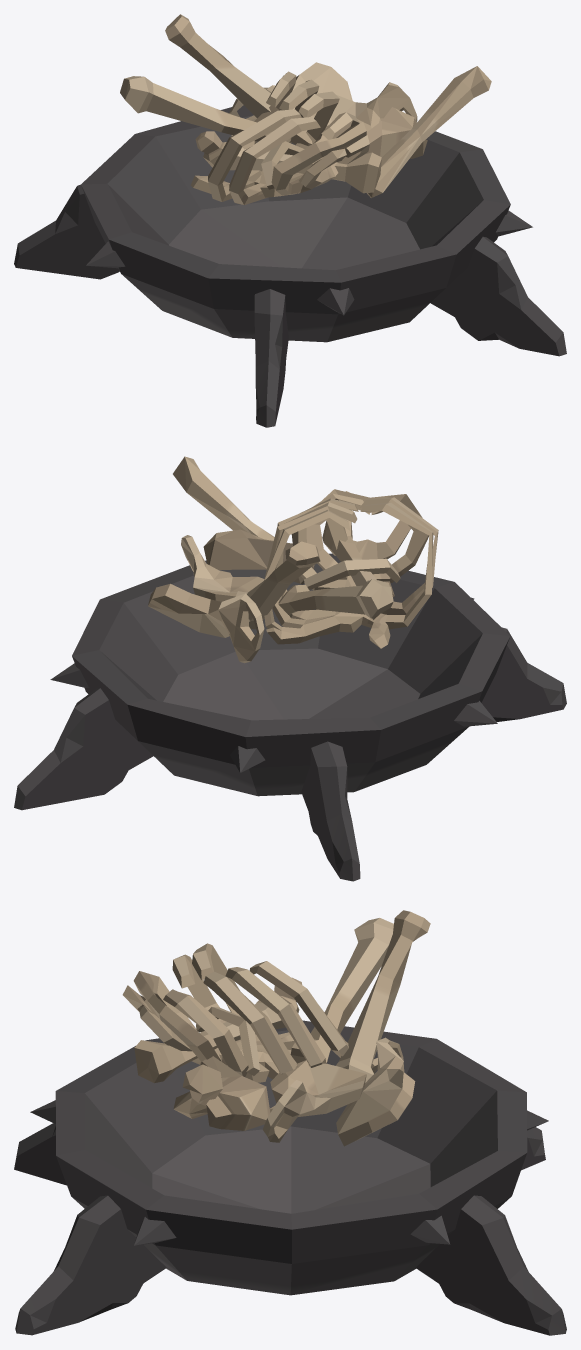
The model's file is bog_brazier.gltf.
3 renders of one model, top to bottom at view 1: azimuth 30°, elevation 25°; view 2: azimuth 150°, elevation 25°; view 3: azimuth 270°, elevation 25°, orthographic. The views are drawn at different scales.
Parts seen in each view (by area): view 1: bog_brazier; view 2: bog_brazier; view 3: bog_brazier.
Boxes of the visible parts, x1,y1,x2,y2 form: bog_brazier: (14, 14, 566, 427); bog_brazier: (14, 456, 566, 881); bog_brazier: (14, 910, 566, 1335).
Bounding box in the file's own units: 1.3 × 0.8328 × 1.38.
1 material, 1 textured.
